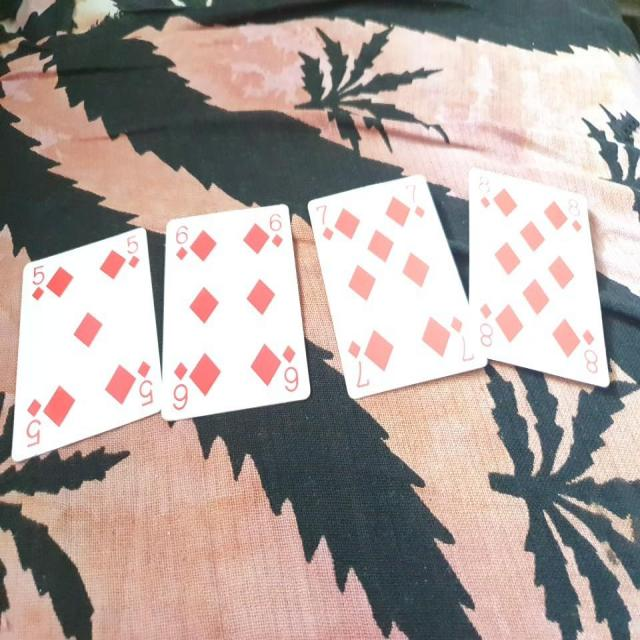5 Diamonds: (12, 226, 165, 460)
6 Diamonds: (163, 201, 314, 422)
7 Diamonds: (306, 174, 488, 401)
8 Diamonds: (468, 166, 614, 390)
